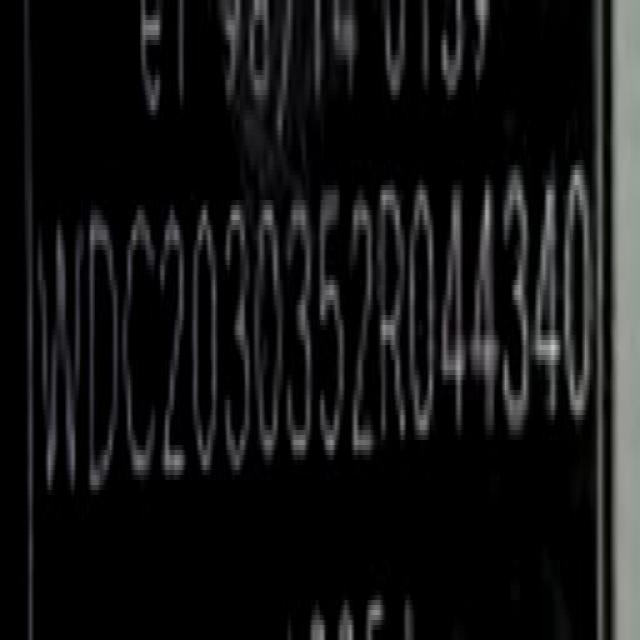0: (565, 161, 595, 437), (408, 182, 438, 452), (193, 202, 221, 482), (256, 195, 284, 470)
2: (160, 204, 188, 490), (349, 183, 375, 460)
3: (501, 165, 533, 444), (288, 195, 316, 468), (225, 206, 252, 478)
4: (534, 159, 568, 438), (467, 167, 498, 446), (439, 179, 467, 449)
5: (317, 188, 345, 467)
C: (124, 209, 159, 492)
D: (90, 214, 121, 500)
R: (379, 180, 408, 457)
W: (33, 222, 86, 485)
